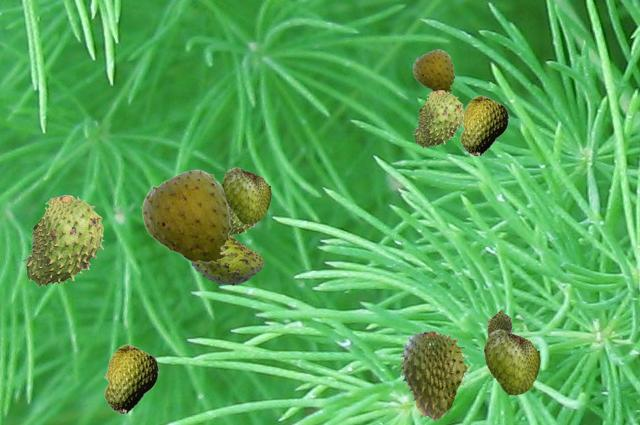guyabano: (140, 169, 231, 264), (22, 195, 103, 286), (397, 330, 471, 421), (103, 344, 158, 414), (191, 233, 263, 284), (484, 328, 539, 394), (459, 95, 508, 156), (412, 90, 463, 147), (222, 166, 270, 223), (412, 49, 454, 92), (486, 309, 512, 335), (229, 210, 255, 235)
